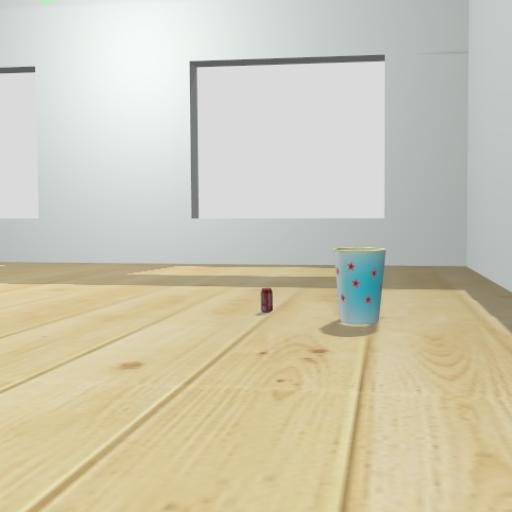COCA: (247, 272, 290, 333)
Trash: (316, 248, 404, 357)
